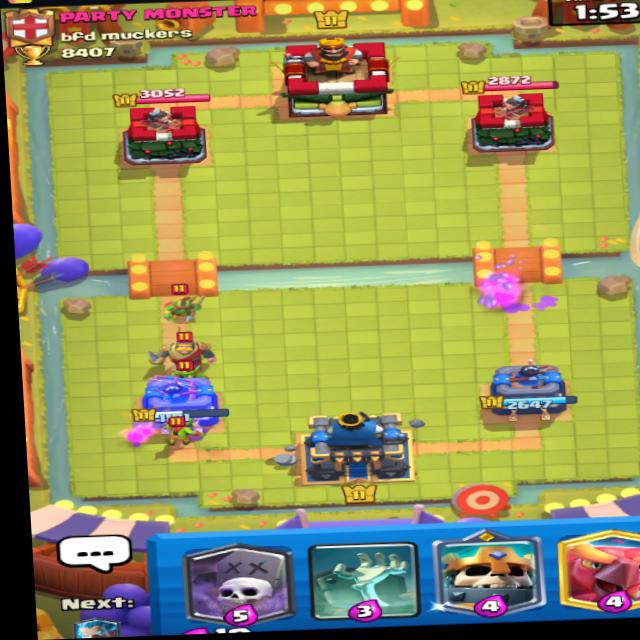Goblin: (160, 418, 207, 451), (155, 363, 207, 382)
Knight: (131, 324, 229, 377)
Speargoblin: (150, 277, 224, 326)
